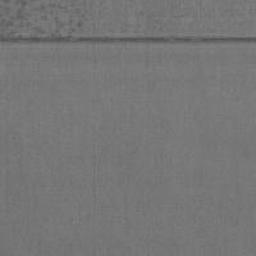Welding line: (0, 35, 256, 43)
